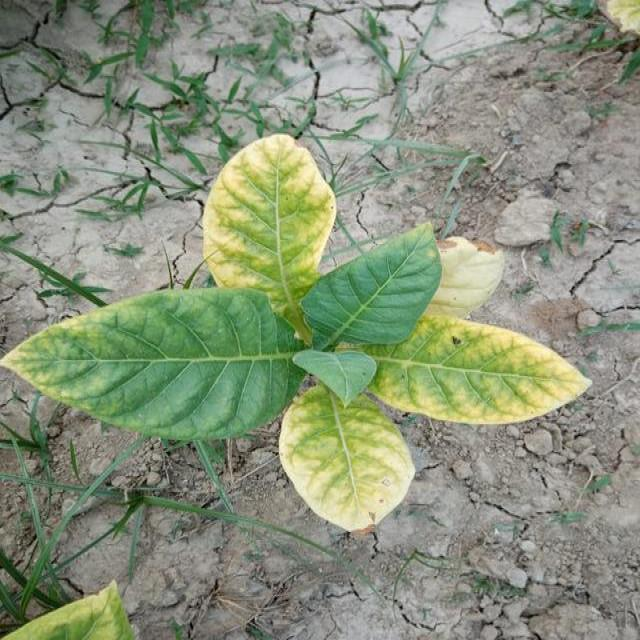crop: (9, 127, 592, 524)
